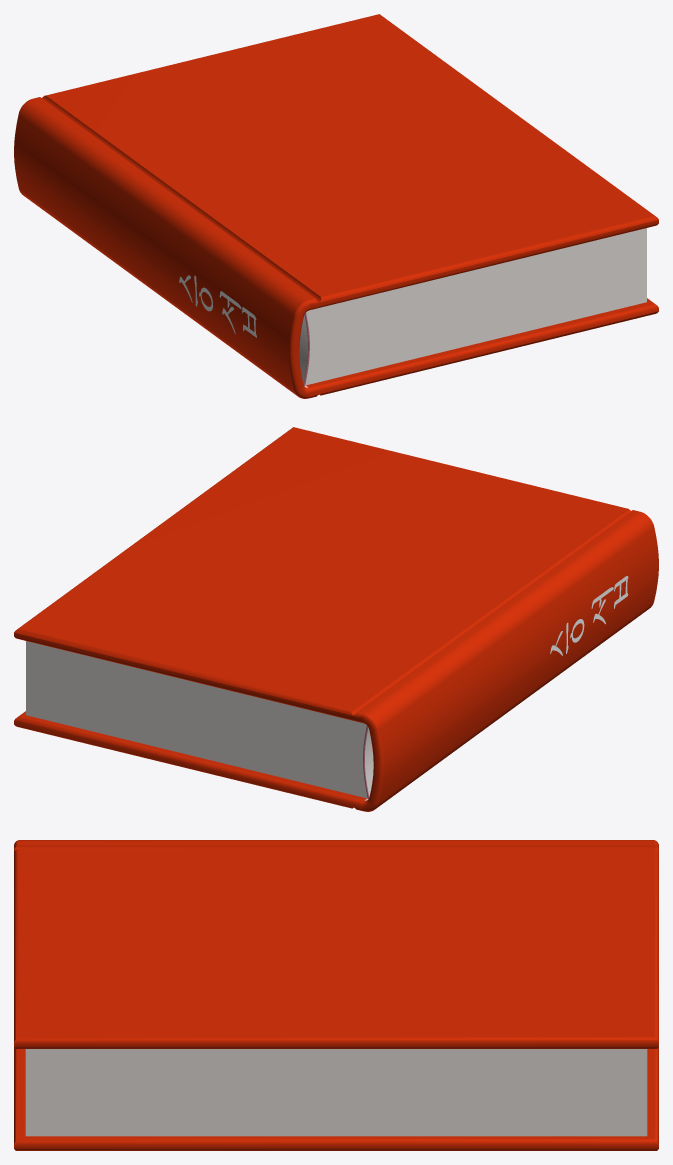
File: book1.glb
3 renders of one model, top to bottom at view 1: azimuth 30°, elevation 25°; view 2: azimuth 150°, elevation 25°; view 3: azimuth 270°, elevation 25°, orthographic. The views are drawn at different scales.
Parts seen in each view (by area): view 1: Geode, Text; view 2: Geode, Text; view 3: Geode.
Boxes of the visible parts, x1=… form: Geode: x1=14, y1=14, x2=658, y2=398; Text: x1=179, y1=275, x2=256, y2=337; Geode: x1=14, y1=427, x2=658, y2=811; Text: x1=550, y1=576, x2=628, y2=655; Geode: x1=14, y1=840, x2=658, y2=1150.
Size of the model in its own units: 0.5175 by 0.1324 by 0.6766.
3 materials, 1 textured.
